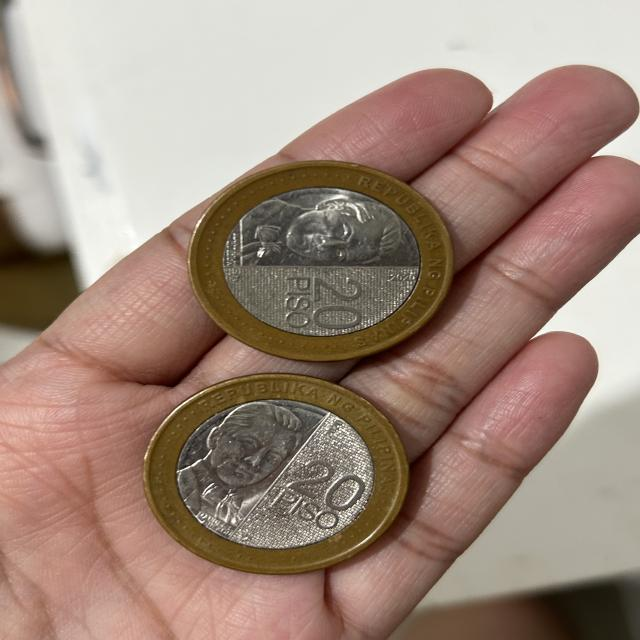20_New_Front: (269, 453, 371, 533), (277, 274, 370, 332)
